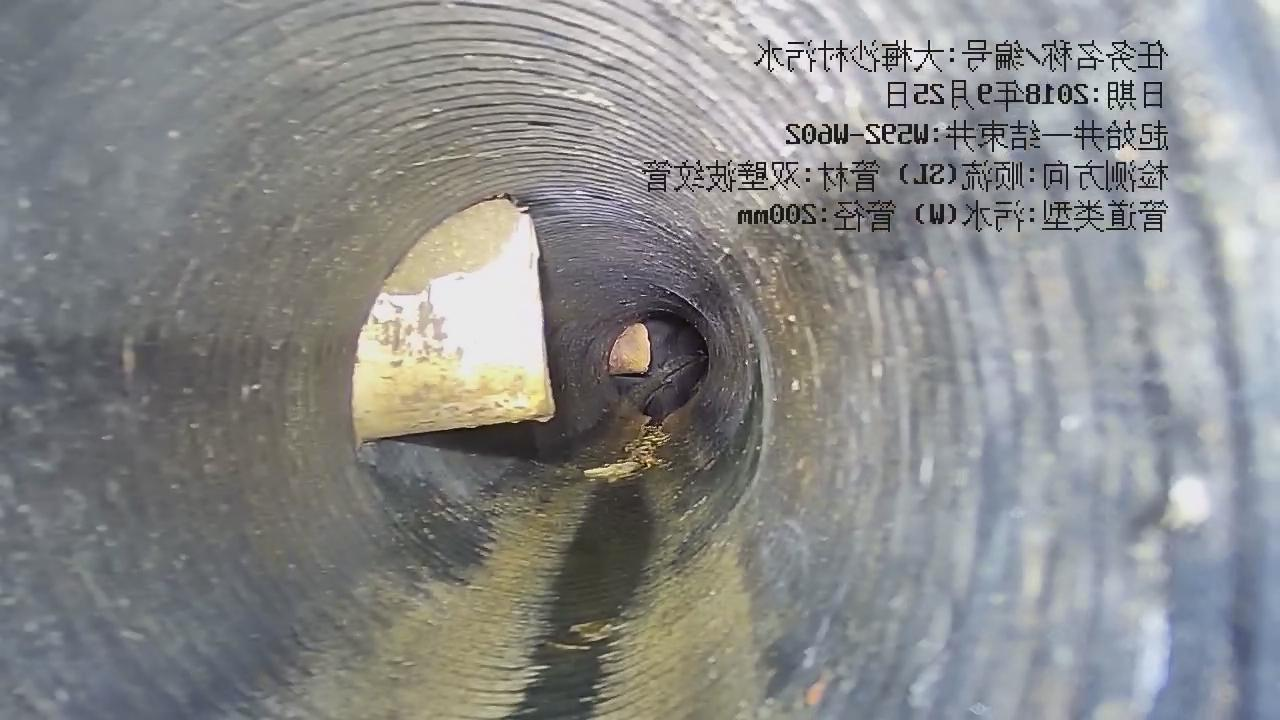ZGAJ: (353, 200, 555, 440), (609, 323, 652, 374)
